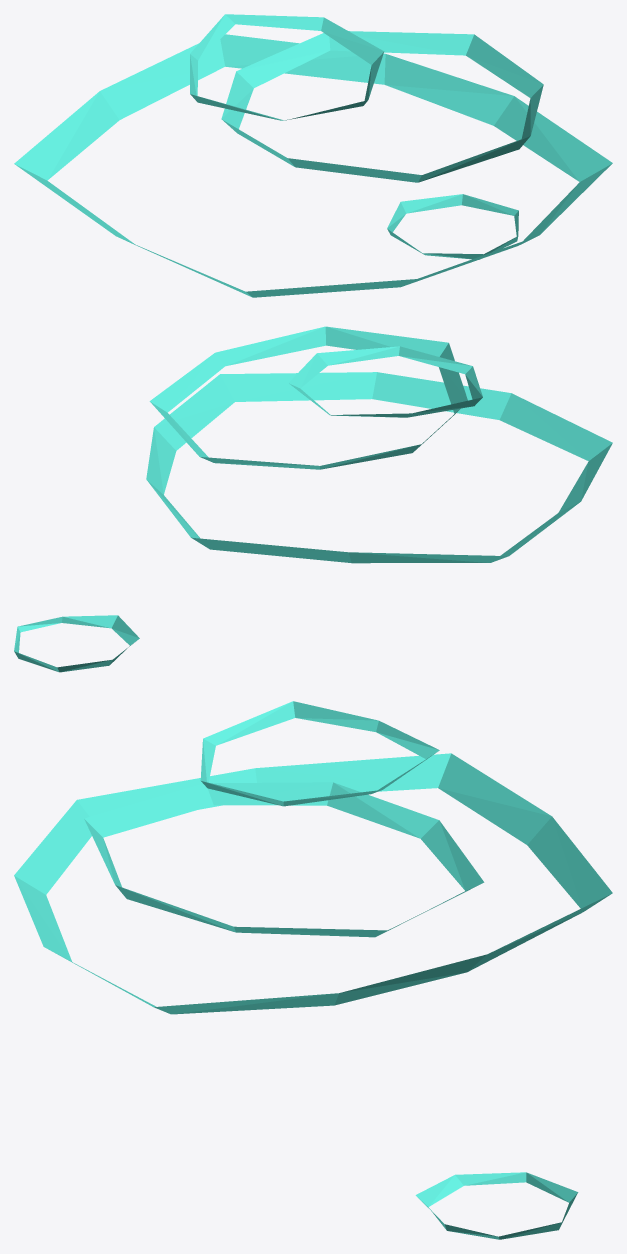
File: coral_mushroom_teal_glow.fbx
3 renders of one model, top to bottom at view 1: azimuth 30°, elevation 25°; view 2: azimuth 150°, elevation 25°; view 3: azimuth 270°, elevation 25°, orthographic. The views are drawn at different scales.
Parts seen in each view (by area): view 1: coral_mushroom_teal_glow; view 2: coral_mushroom_teal_glow; view 3: coral_mushroom_teal_glow.
Part boxes in pixels (x1=…): coral_mushroom_teal_glow: x1=14, y1=14, x2=612, y2=297; coral_mushroom_teal_glow: x1=14, y1=326, x2=612, y2=672; coral_mushroom_teal_glow: x1=14, y1=701, x2=612, y2=1239.
Size of the model in its own units: 1957 by 1075 by 1788.
1 material, 1 textured.
